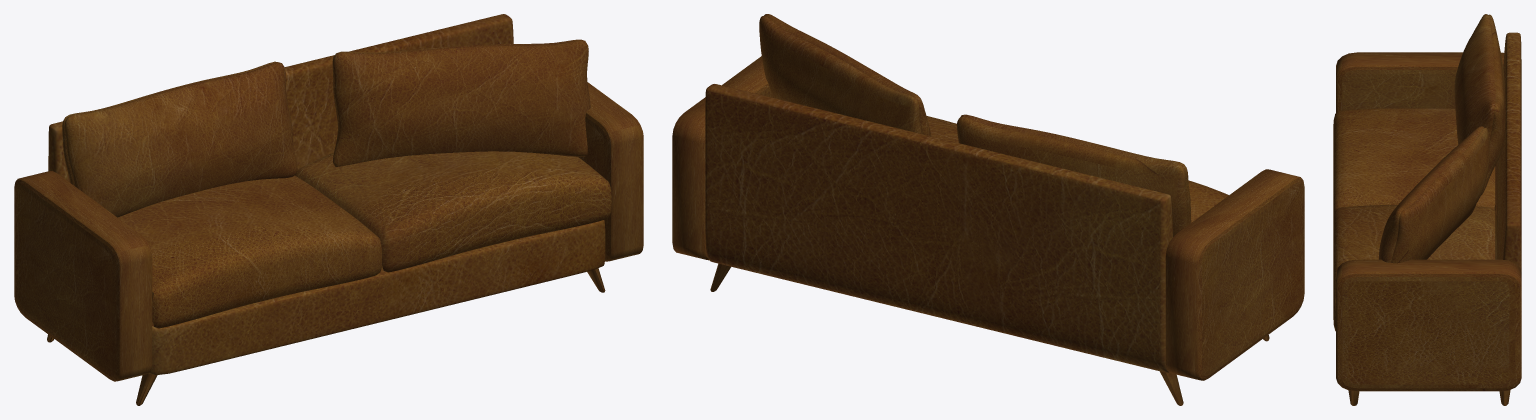
File: SofaCuero.glb
3 views of the same model, side by side, from view 1: azimuth 30°, elevation 25°; view 2: azimuth 150°, elevation 25°; view 3: azimuth 270°, elevation 25° (orthographic). The views are drawn at different scales.
Parts seen in each view (by area): view 1: Sillon sin patas.003_5, Sillon sin patas.002_4, Sillon sin patas.001_3, Sillon sin patas.006_6, Cube_0, Cube.001_1, Patas del sillon_2; view 2: Sillon sin patas.002_4, Cube_0, Sillon sin patas.001_3, Sillon sin patas.006_6, Cube.001_1, Sillon sin patas.003_5, Patas del sillon_2; view 3: Cube.001_1, Sillon sin patas.003_5, Sillon sin patas.001_3, Cube_0, Sillon sin patas.006_6, Sillon sin patas.002_4, Patas del sillon_2.
Boxes of the visible parts, bbox=[...] form: Sillon sin patas.003_5: bbox=[118, 151, 611, 328]; Sillon sin patas.002_4: bbox=[48, 14, 605, 375]; Sillon sin patas.001_3: bbox=[332, 39, 590, 166]; Sillon sin patas.006_6: bbox=[62, 61, 297, 217]; Cube_0: bbox=[14, 171, 152, 381]; Cube.001_1: bbox=[578, 82, 643, 261]; Patas del sillon_2: bbox=[47, 268, 605, 405]; Sillon sin patas.002_4: bbox=[705, 84, 1172, 372]; Cube_0: bbox=[1165, 169, 1304, 380]; Sillon sin patas.001_3: bbox=[759, 14, 931, 136]; Sillon sin patas.006_6: bbox=[957, 114, 1191, 236]; Cube.001_1: bbox=[672, 56, 772, 260]; Sillon sin patas.003_5: bbox=[926, 116, 1228, 222]; Patas del sillon_2: bbox=[710, 263, 1269, 405]; Cube.001_1: bbox=[1336, 259, 1521, 391]; Sillon sin patas.003_5: bbox=[1333, 108, 1497, 331]; Sillon sin patas.001_3: bbox=[1378, 126, 1489, 263]; Cube_0: bbox=[1336, 52, 1504, 112]; Sillon sin patas.006_6: bbox=[1454, 14, 1505, 195]; Sillon sin patas.002_4: bbox=[1497, 32, 1521, 271]; Patas del sillon_2: bbox=[1348, 390, 1510, 405].
Bounding box in the file's own units: 1.77 × 0.7407 × 0.6345.
1 material, 1 textured.
